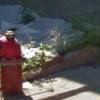Hydrant: (1, 23, 29, 94)
